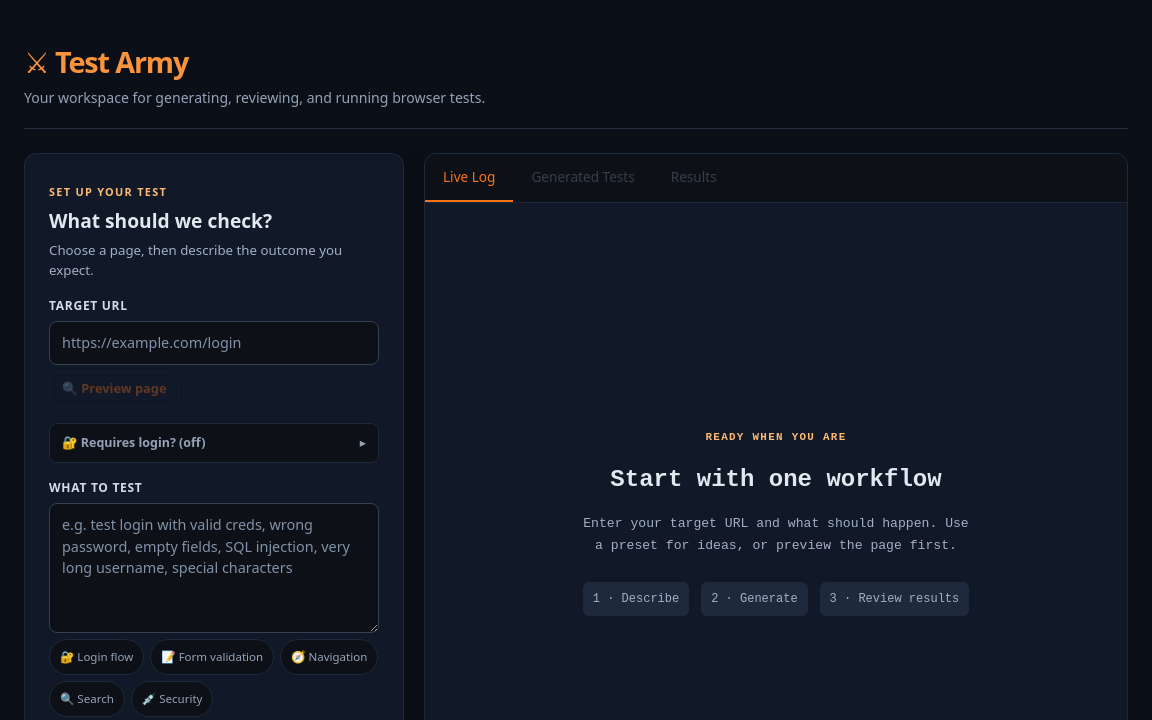
Test Army inputs › review mode changes the generation action without making a request
The image size is (1152, 720).
Step 1. Type "https://example.test" into the field labelled "Target URL" → (214, 343), box [49,321,379,364]
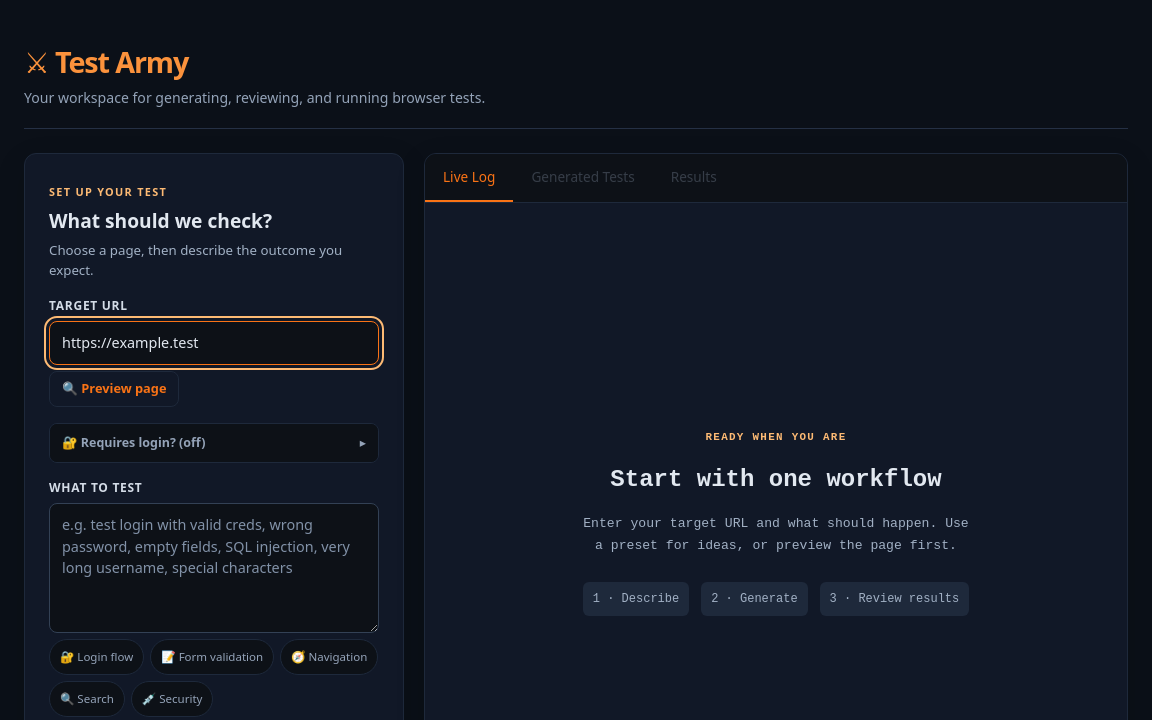
Step 2. Type "Check login" into the text box labelled "What to test" → (214, 568), box [49,503,379,633]
(page scrolled)
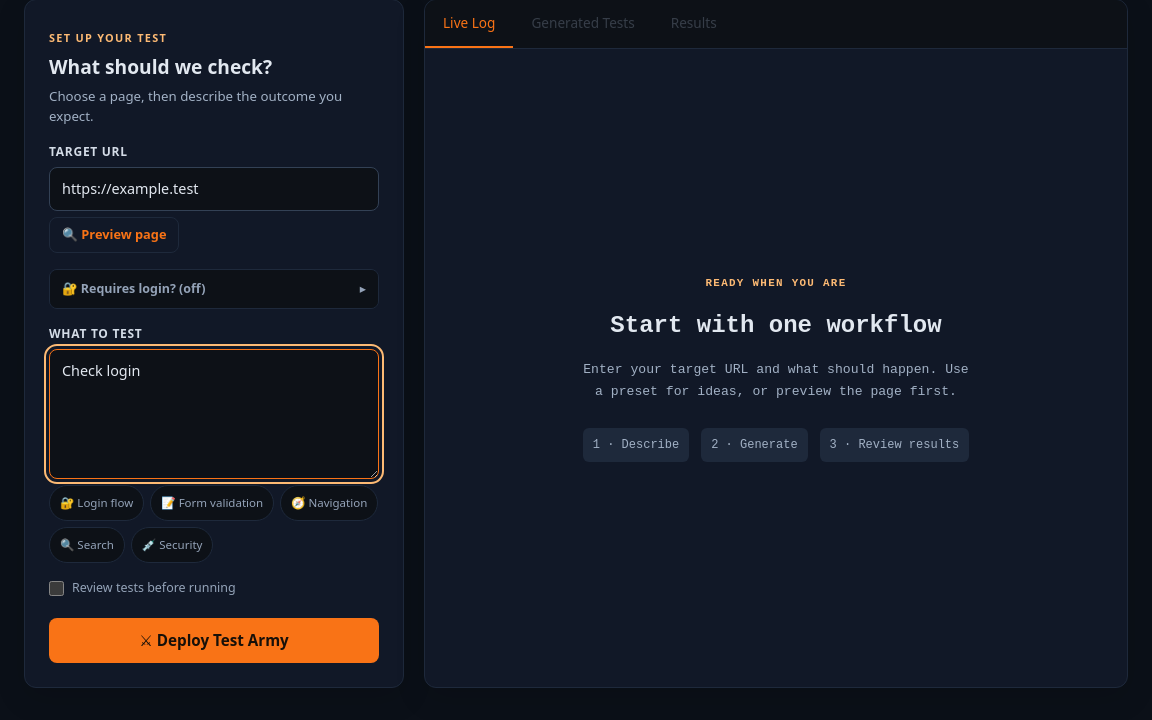
Step 3. Click the checkbox labelled "Review tests before running" → (56, 588), box [49,581,64,596]
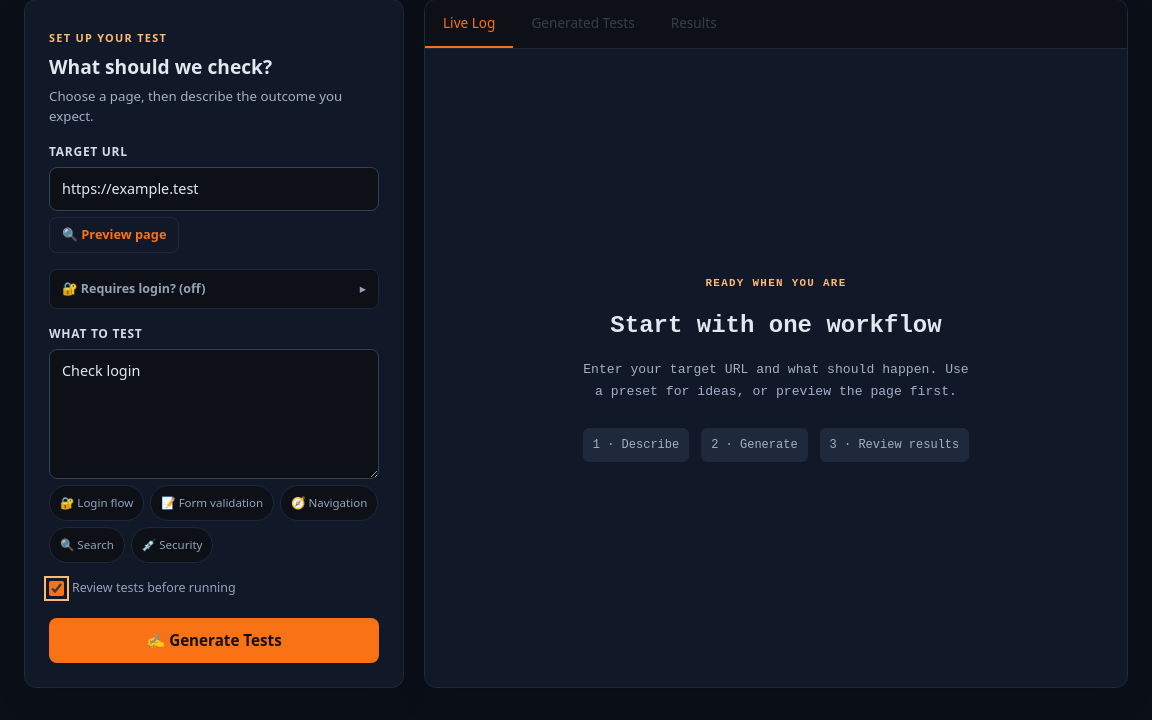
Check: the button "✍ Generate Tests" is enabled, box [49,618,379,663]
Check: the button "Deploy Test Army" is gone
